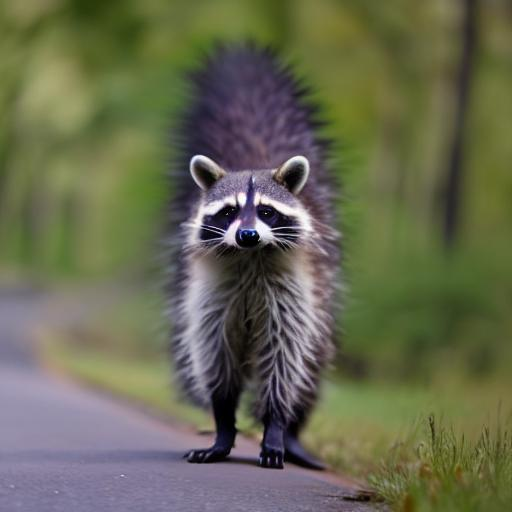raccoon: (162, 93, 337, 400)
